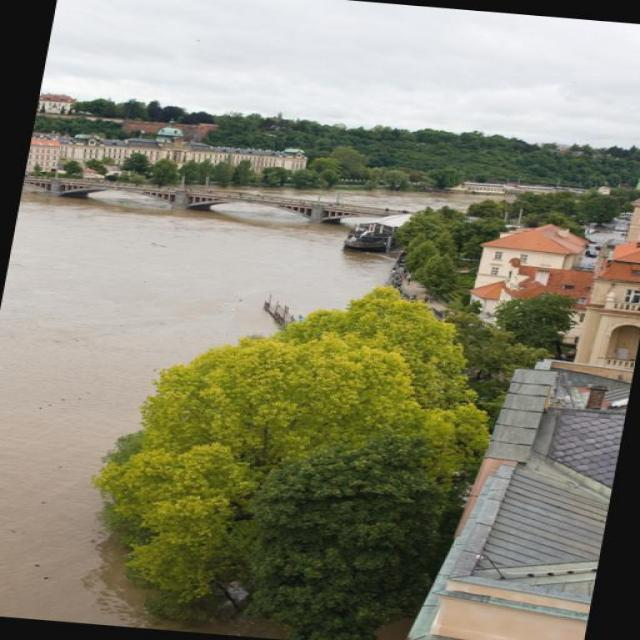flood: (0, 154, 420, 635)
